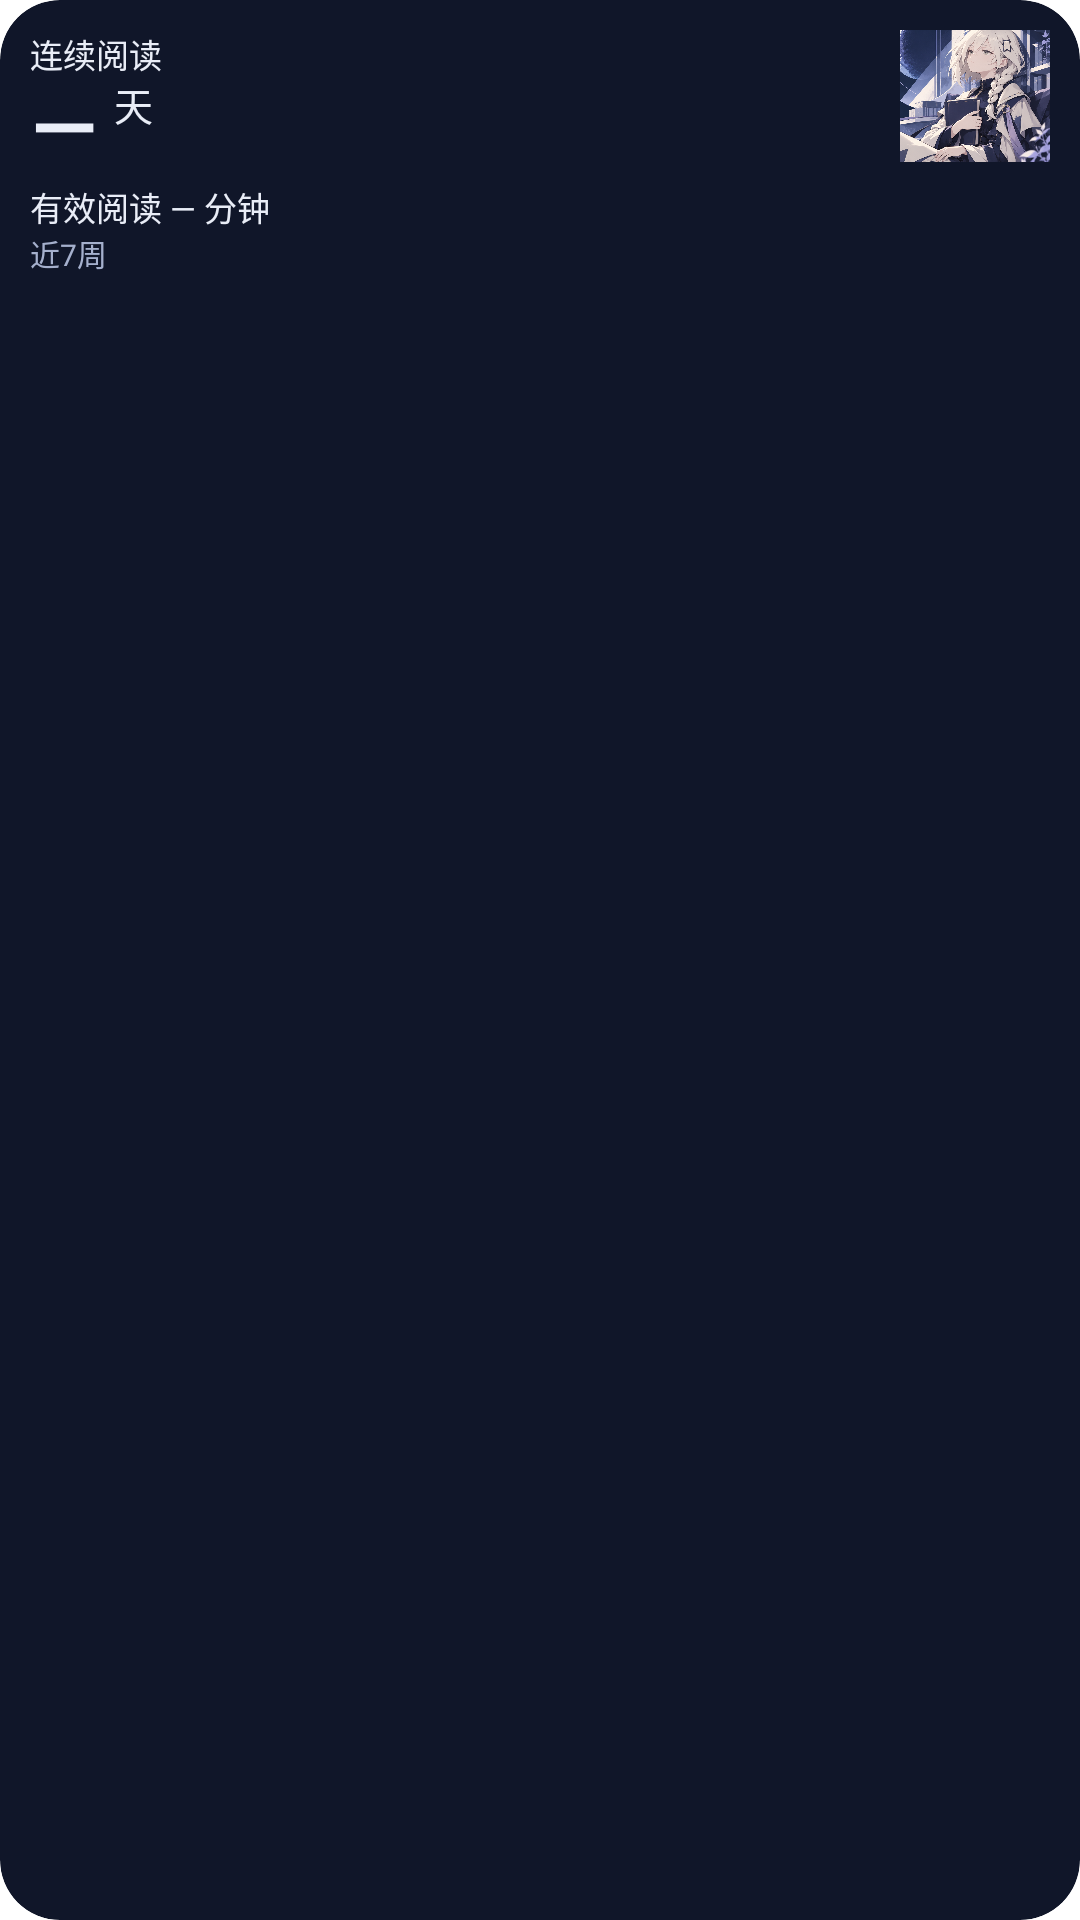

Icon bounding boxes for this 1080 x 1920 phone screenshot, format (x1, y1, x2, y2):
reading widget art constellation: (900, 30, 1050, 162)
